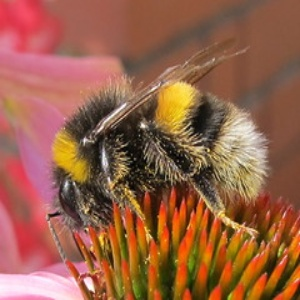bee: (42, 75, 271, 231)
